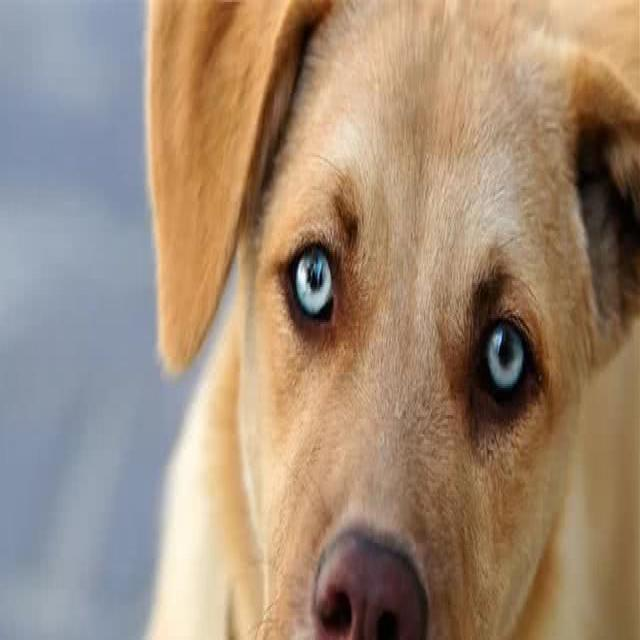eye: (471, 308, 540, 413), (284, 234, 339, 330)
